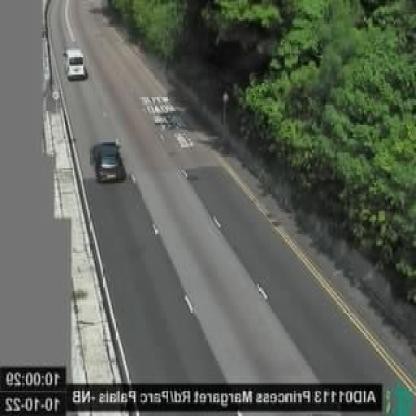Car: (90, 140, 124, 183), (64, 46, 85, 80)
